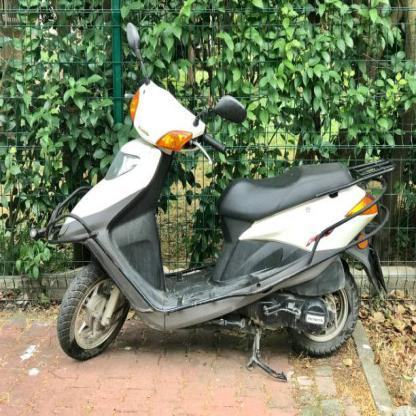Motorcycle: (54, 13, 392, 366)
